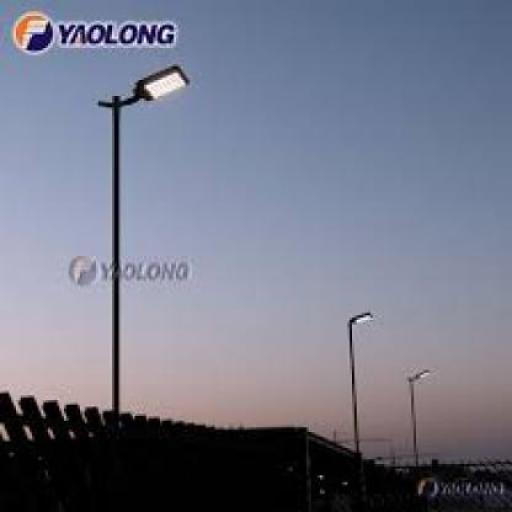street light: (98, 64, 194, 510), (346, 306, 394, 496), (408, 368, 430, 492)
